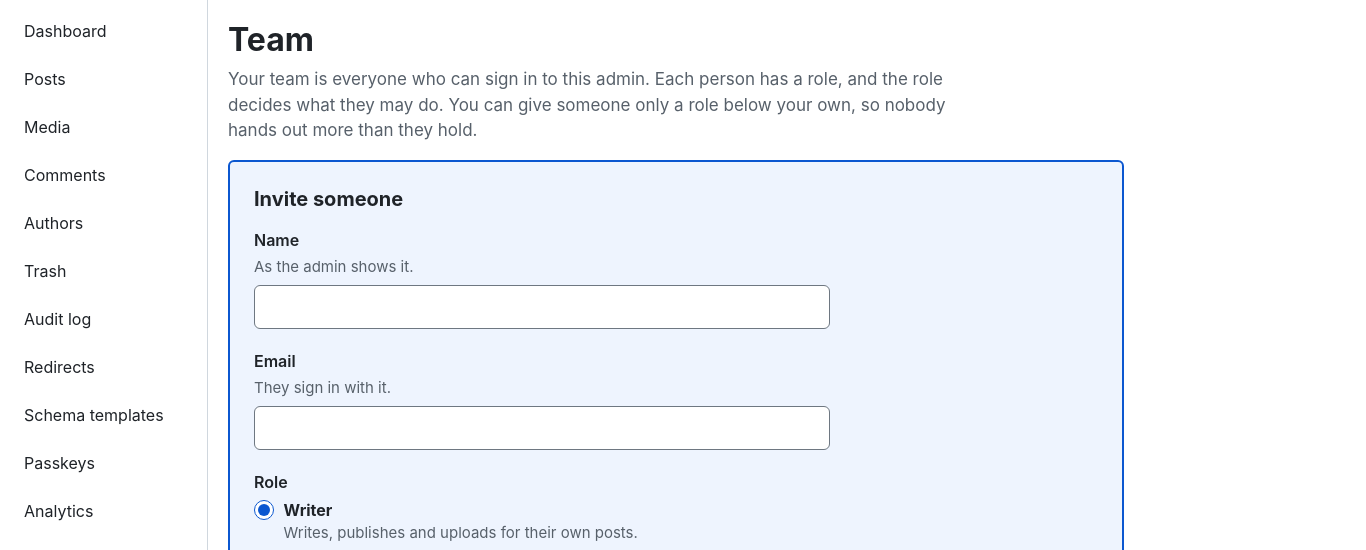
Scenario: the Team screen › shows the API's words when the email already has an account
Type "Lena" into the field labelled "Name".
click(542, 307); type("Lena")  # box [254, 285, 830, 329]
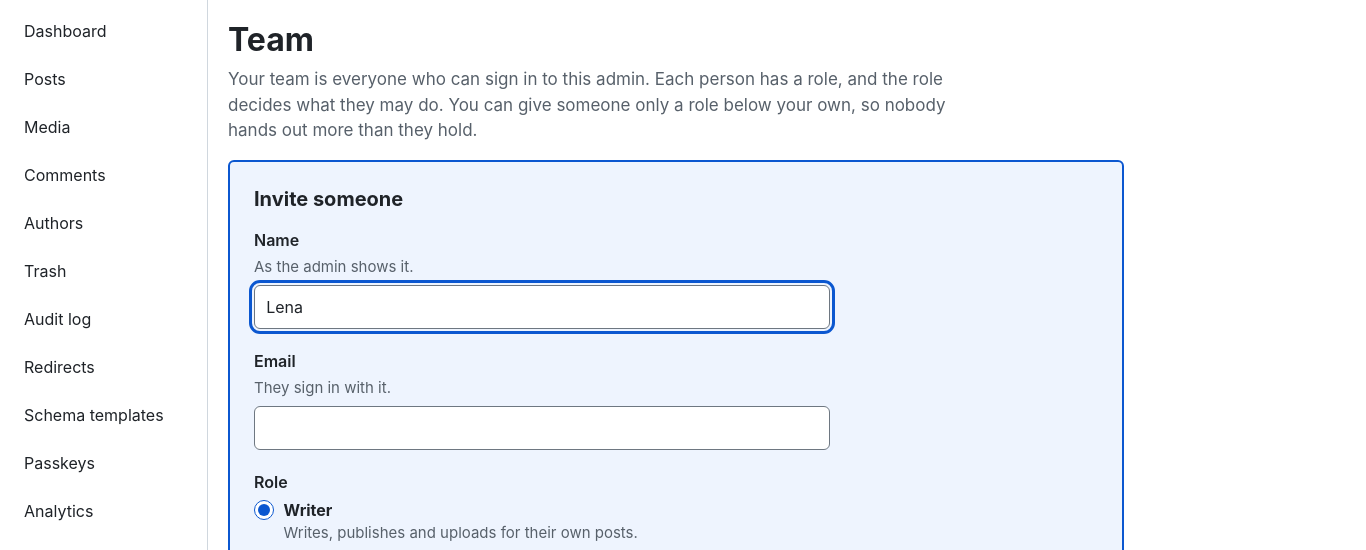
Type "lena@example.com" into the field labelled "Email".
click(542, 428); type("lena@example.com")  # box [254, 406, 830, 450]
(page scrolled)
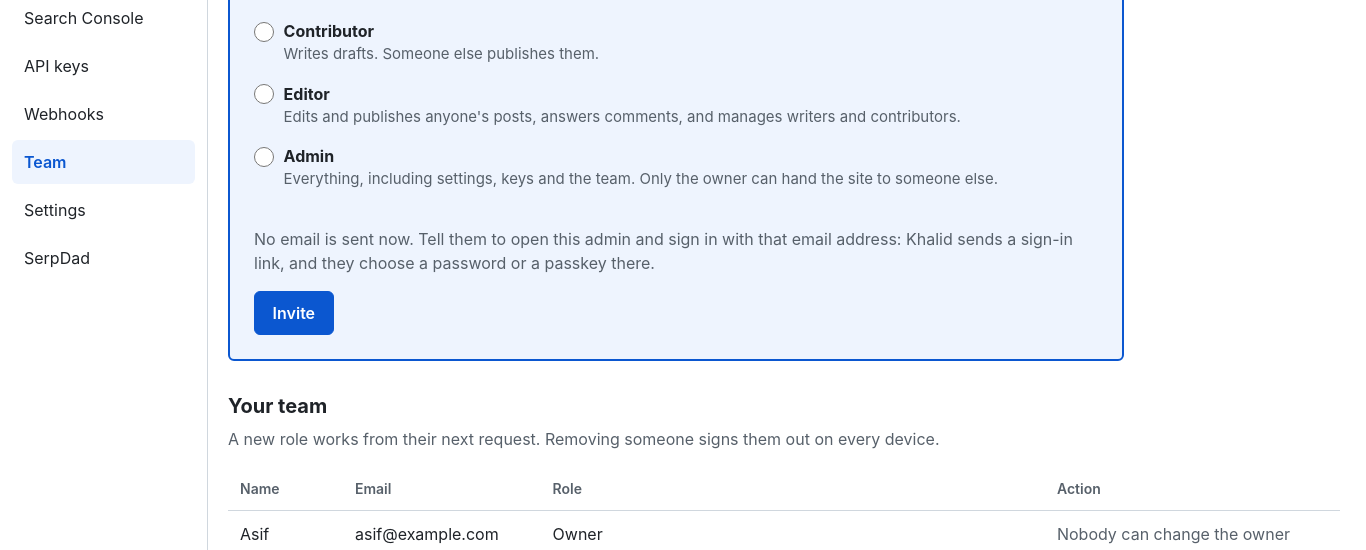
Click the button "Invite".
click(294, 313)  # box [254, 291, 334, 335]
(page scrolled)
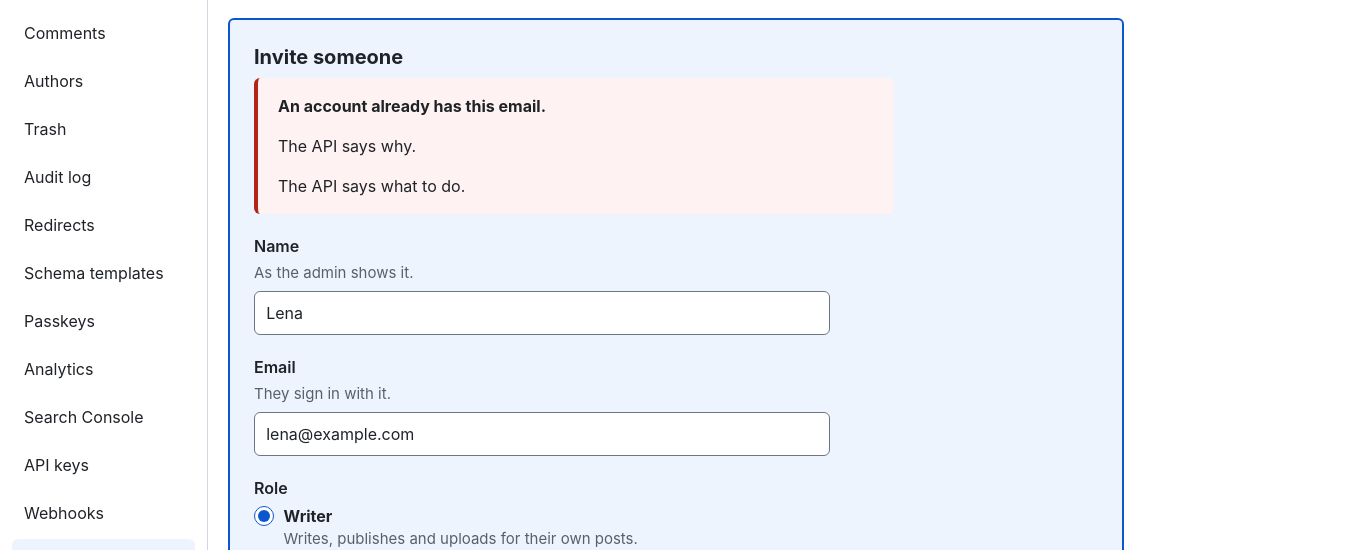
Result: the message shows "An account already has this email." at [278, 96, 546, 116]
